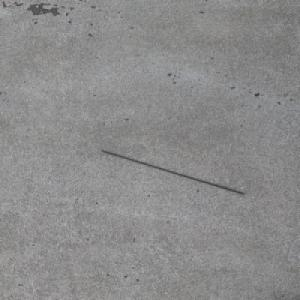LuggagePart: (99, 150, 244, 195)
